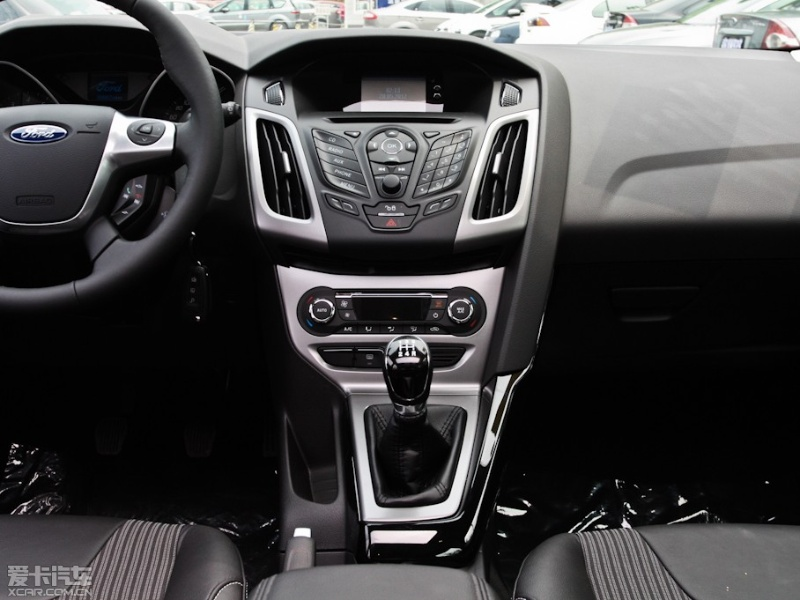control_center: (255, 25, 568, 334)
gear_lever: (267, 316, 489, 551)
odometer: (6, 30, 238, 108)
steering_wheel: (1, 6, 242, 313)
